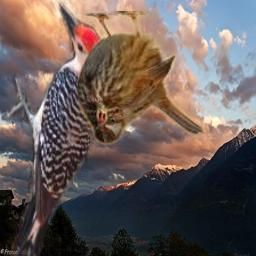Sparrow: (78, 11, 207, 145)
Woodpecker: (1, 0, 103, 256)
